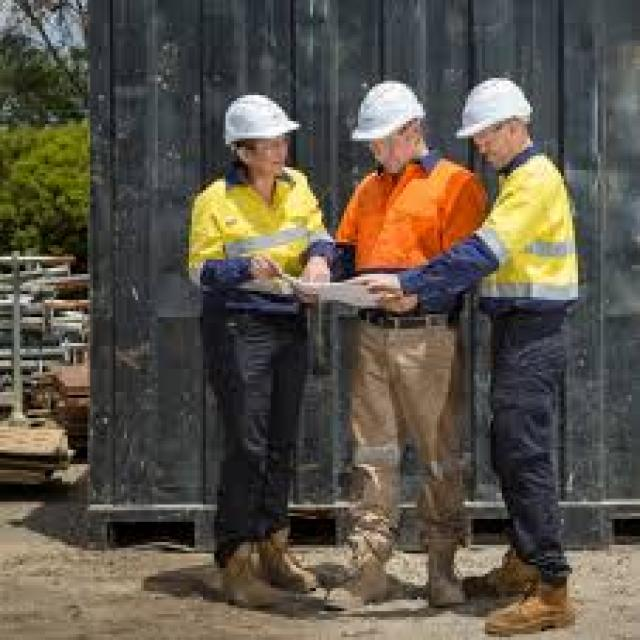shoes: (217, 555, 301, 619), (483, 588, 587, 639), (258, 540, 327, 594), (420, 546, 471, 616), (325, 562, 397, 607), (465, 555, 539, 593)
